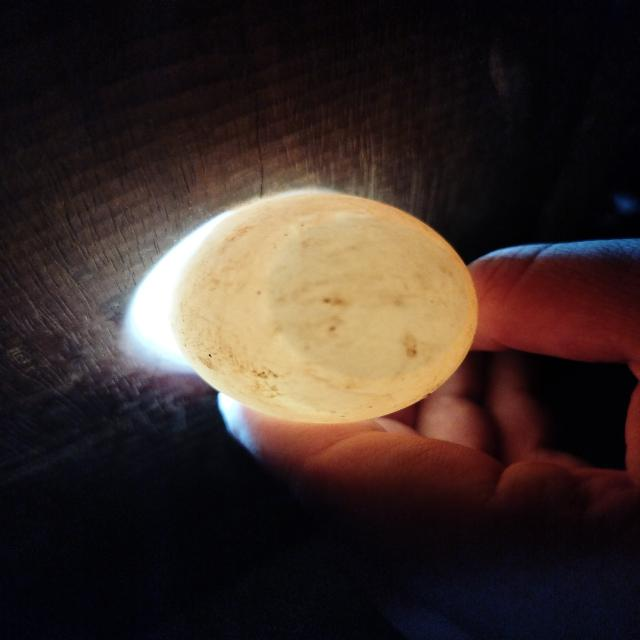Camara de Ar: (267, 217, 466, 380)
